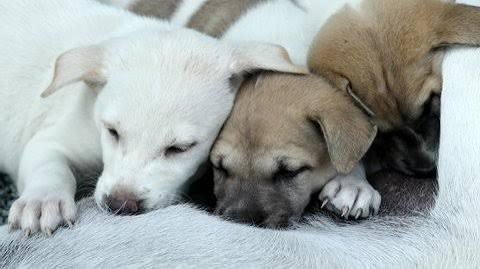adult_dog: (0, 1, 480, 269)
puppy-dog: (1, 27, 311, 233), (220, 1, 480, 183), (189, 68, 385, 230)
